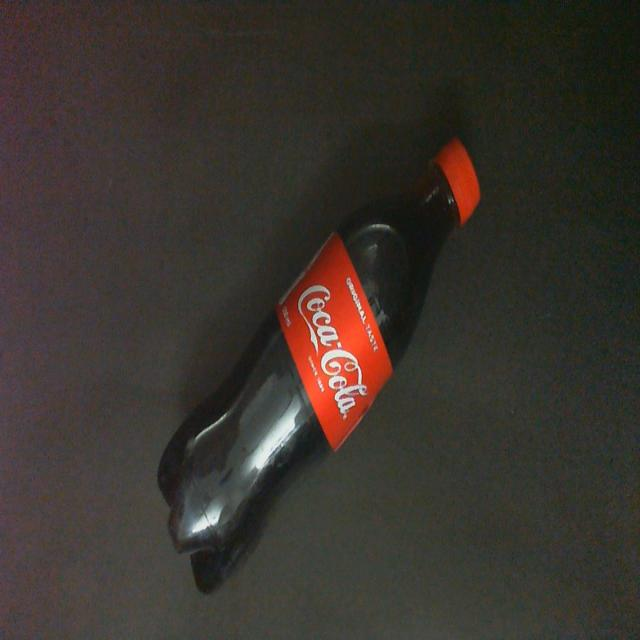non-defect: (156, 134, 482, 594)
